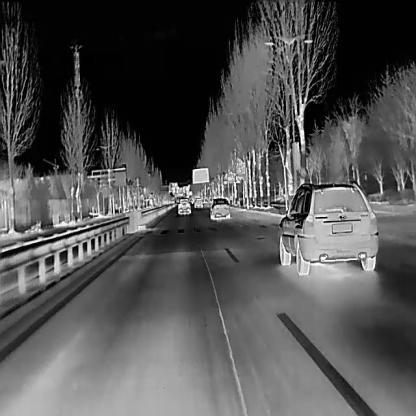car: (277, 179, 379, 275), (210, 196, 230, 219), (176, 196, 190, 213), (193, 196, 202, 207)
